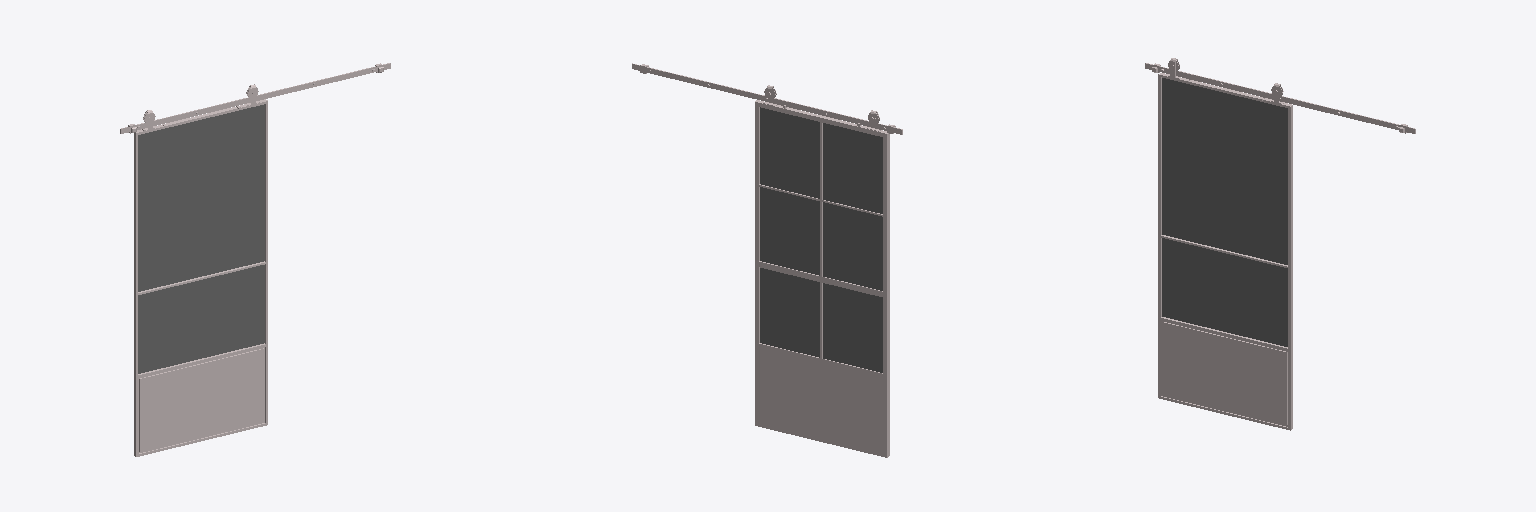
Rendered from sliding-door-001.obj.
3 renders of one model, left to right at view 1: azimuth 30°, elevation 25°; view 2: azimuth 150°, elevation 25°; view 3: azimuth 330°, elevation 25°, orthographic.
Visible parts, largest first — view 1: door, rail; view 2: door, rail; view 3: door, rail.
Boxes of the visible parts, x1=… form: door: x1=134, y1=84, x2=267, y2=456; rail: x1=120, y1=63, x2=390, y2=133; door: x1=755, y1=85, x2=889, y2=457; rail: x1=632, y1=63, x2=902, y2=134; door: x1=1158, y1=58, x2=1292, y2=430; rail: x1=1145, y1=63, x2=1415, y2=133.
Bounding box in the file's own units: 1.87 × 2.26 × 0.051.